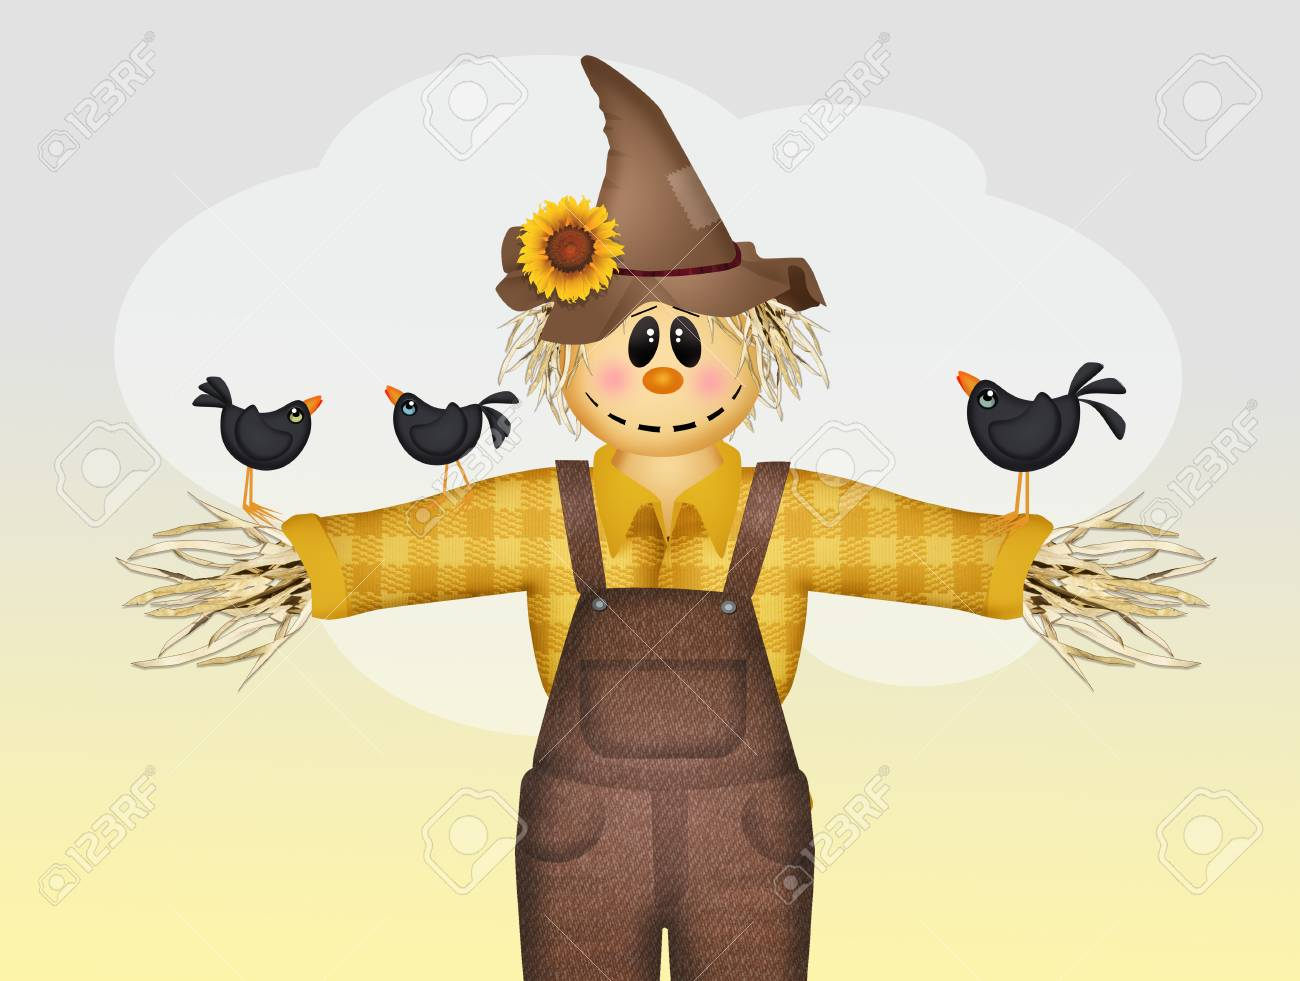person-like: (117, 46, 1224, 981)
